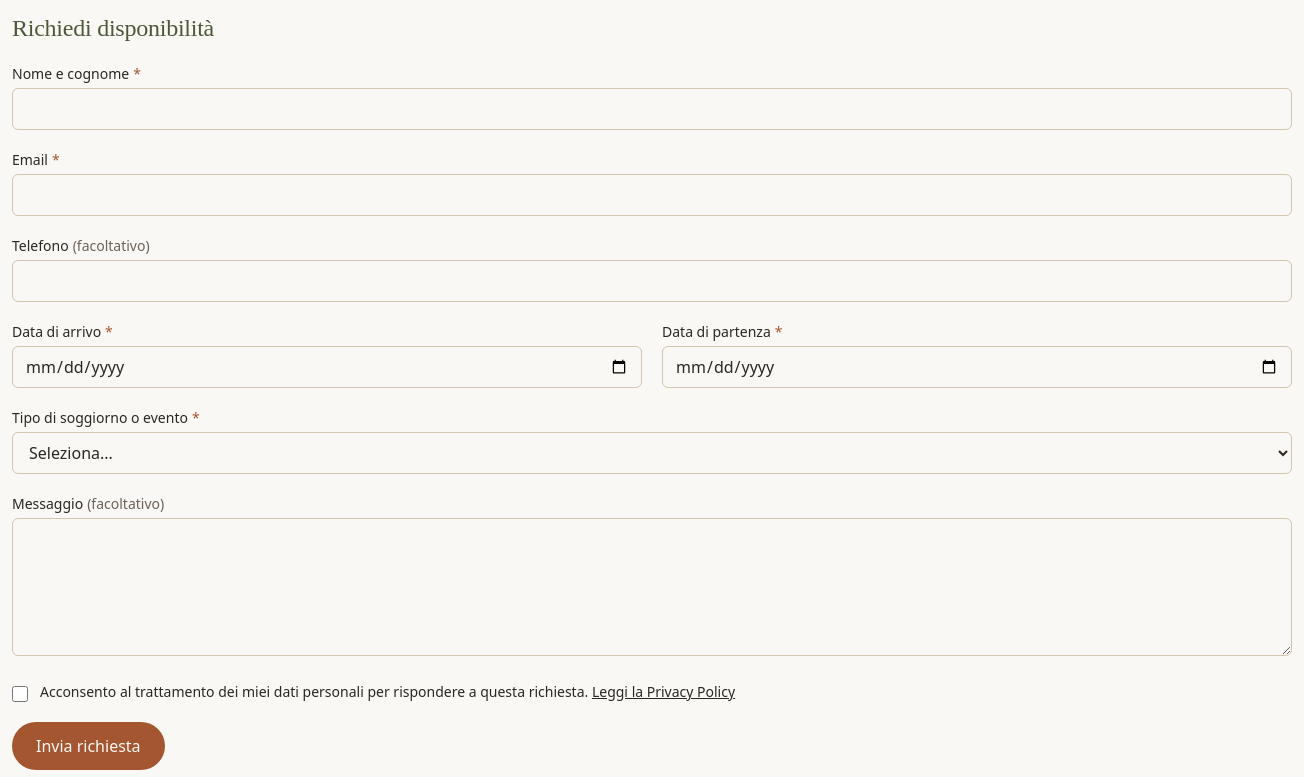
Test: InquiryForm validation › clears a field error once the user edits that field
Click the button "Invia richiesta" at (88, 746), box [12,722,165,770]
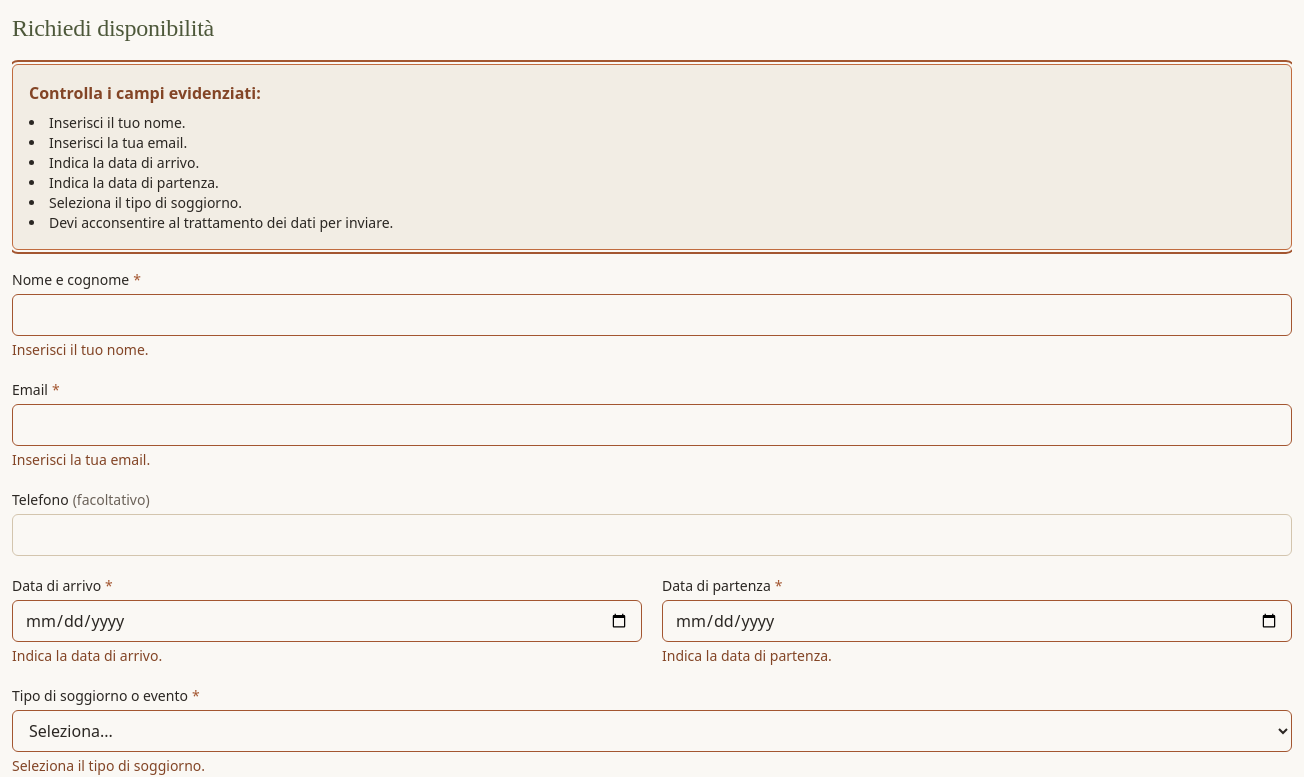
Type "G" into the field labelled "Nome e cognome*" at (652, 315), box [12,294,1292,336]
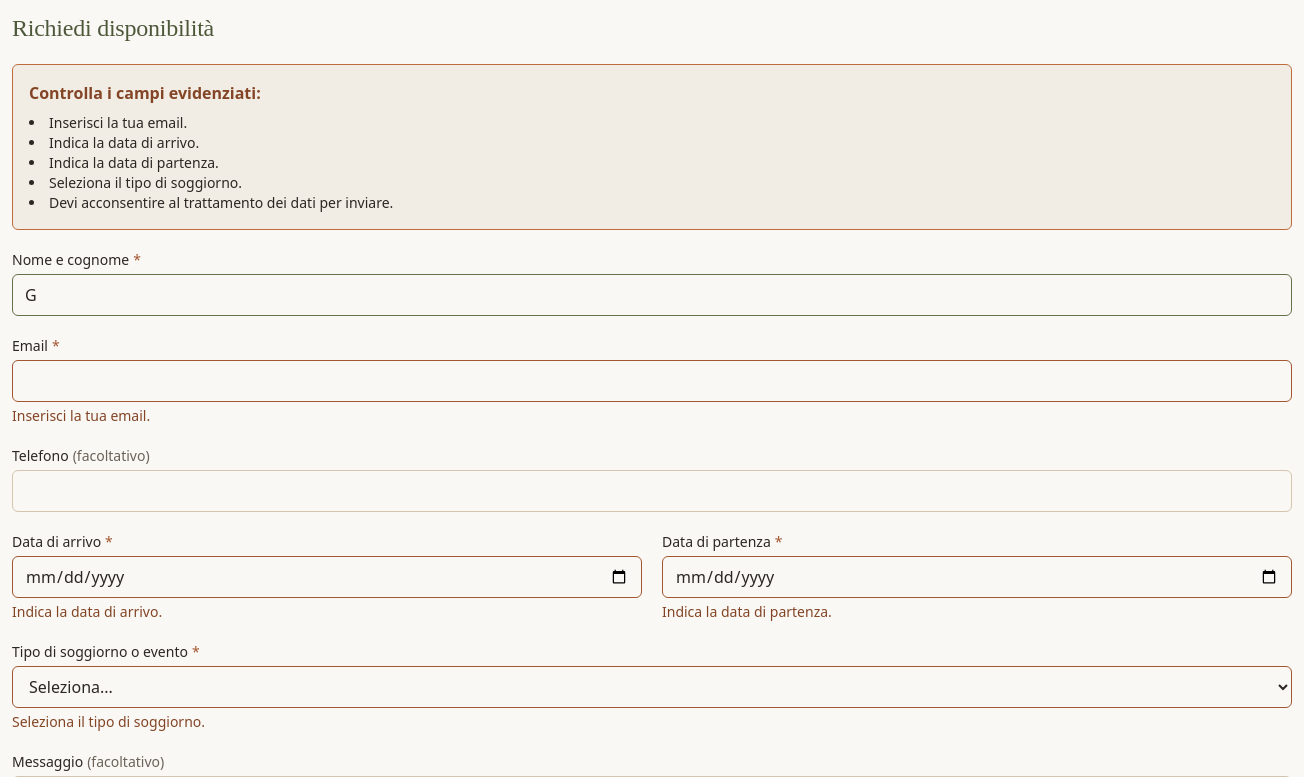
Now the list item "Inserisci il tuo nome." is gone
